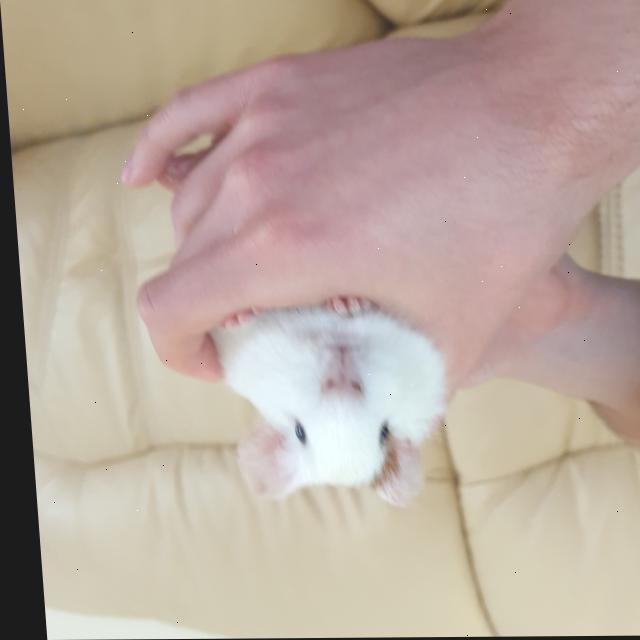guinea pig: (196, 294, 451, 511)
